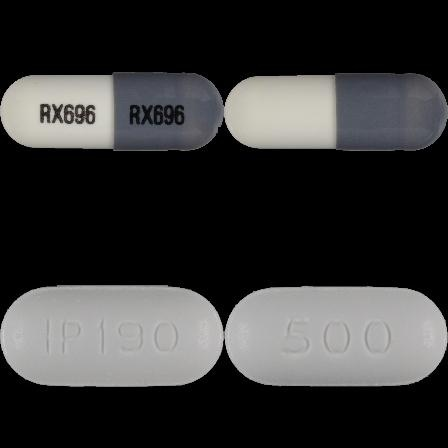0440-7805: (0, 0, 224, 224)
